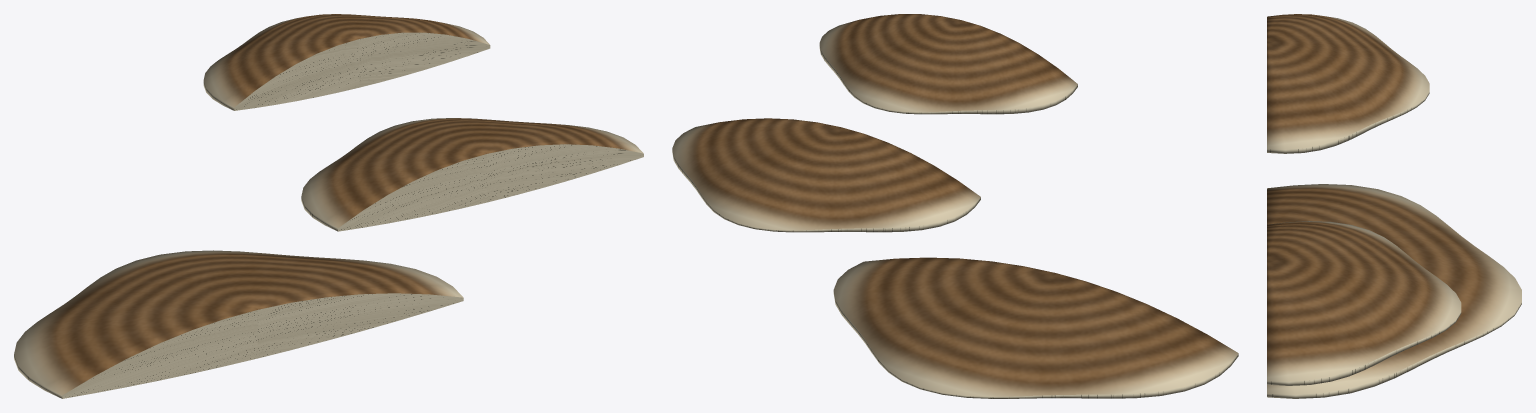
File: Deadwood_Bracket_Cluster_01_LOD0.fbx
The picture shows the model from 3 angles, left to right: view 1: azimuth 30°, elevation 25°; view 2: azimuth 150°, elevation 25°; view 3: azimuth 270°, elevation 25°; orthographic projection. The views are drawn at different scales.
Visible parts, largest first — view 1: Deadwood_Bracket_Cluster_01_LOD0_Mesh; view 2: Deadwood_Bracket_Cluster_01_LOD0_Mesh; view 3: Deadwood_Bracket_Cluster_01_LOD0_Mesh.
Boxes of the visible parts, left/top/right/bottom form: Deadwood_Bracket_Cluster_01_LOD0_Mesh: left=14, top=14, right=643, bottom=398; Deadwood_Bracket_Cluster_01_LOD0_Mesh: left=672, top=14, right=1238, bottom=398; Deadwood_Bracket_Cluster_01_LOD0_Mesh: left=1267, top=14, right=1521, bottom=398.
Size of the model in its own units: 30.9 by 14.73 by 11.01.
2 materials, 2 textured.
